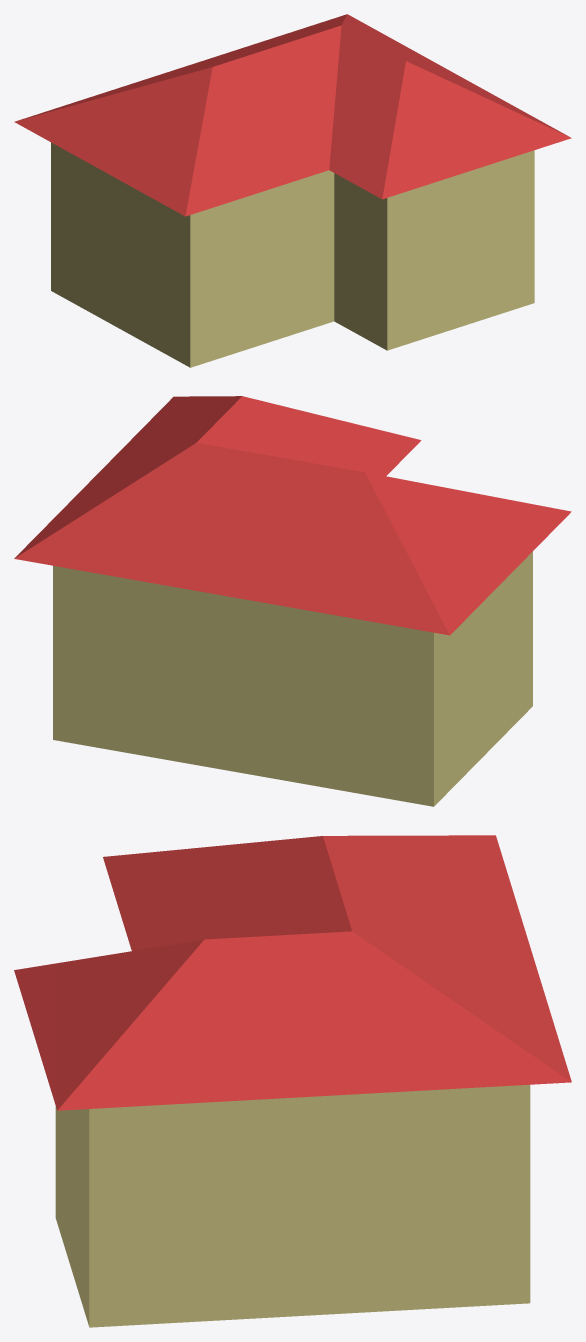
3 views of the same model, one above another, from view 1: azimuth 30°, elevation 25°; view 2: azimuth 150°, elevation 25°; view 3: azimuth 270°, elevation 25° (orthographic). The views are drawn at different scales.
Bounding box in the file's own units: 17.49 × 14.97 × 9.71.
